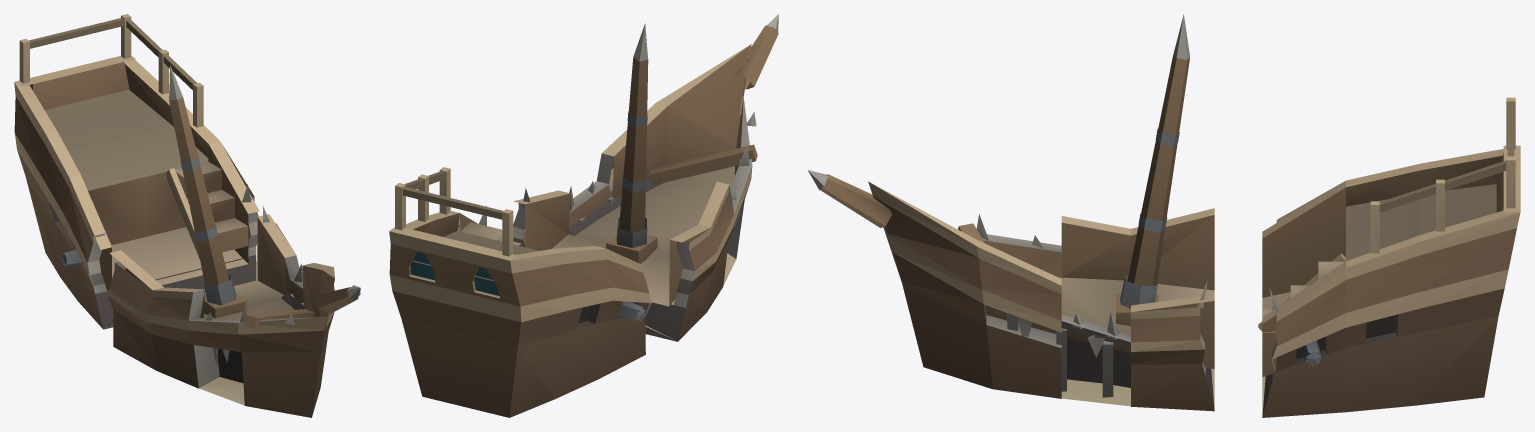
Rendered from wreck.glb.
The picture shows the model from 3 angles, left to right: view 1: azimuth 30°, elevation 25°; view 2: azimuth 150°, elevation 25°; view 3: azimuth 270°, elevation 25°; orthographic projection. The views are drawn at different scales.
Parts seen in each view (by area): view 1: wreck; view 2: wreck; view 3: wreck.
Boxes of the visible parts, box(x1,y1,x2,y2) form: wreck: box(14, 14, 360, 417); wreck: box(389, 14, 778, 417); wreck: box(807, 14, 1520, 417).
Bounding box in the file's own units: 3.47 × 4.85 × 9.38.
